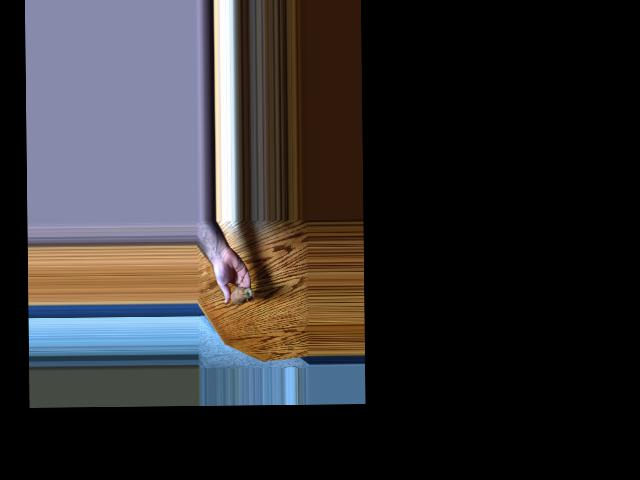sweet_potato: (227, 287, 252, 312)
